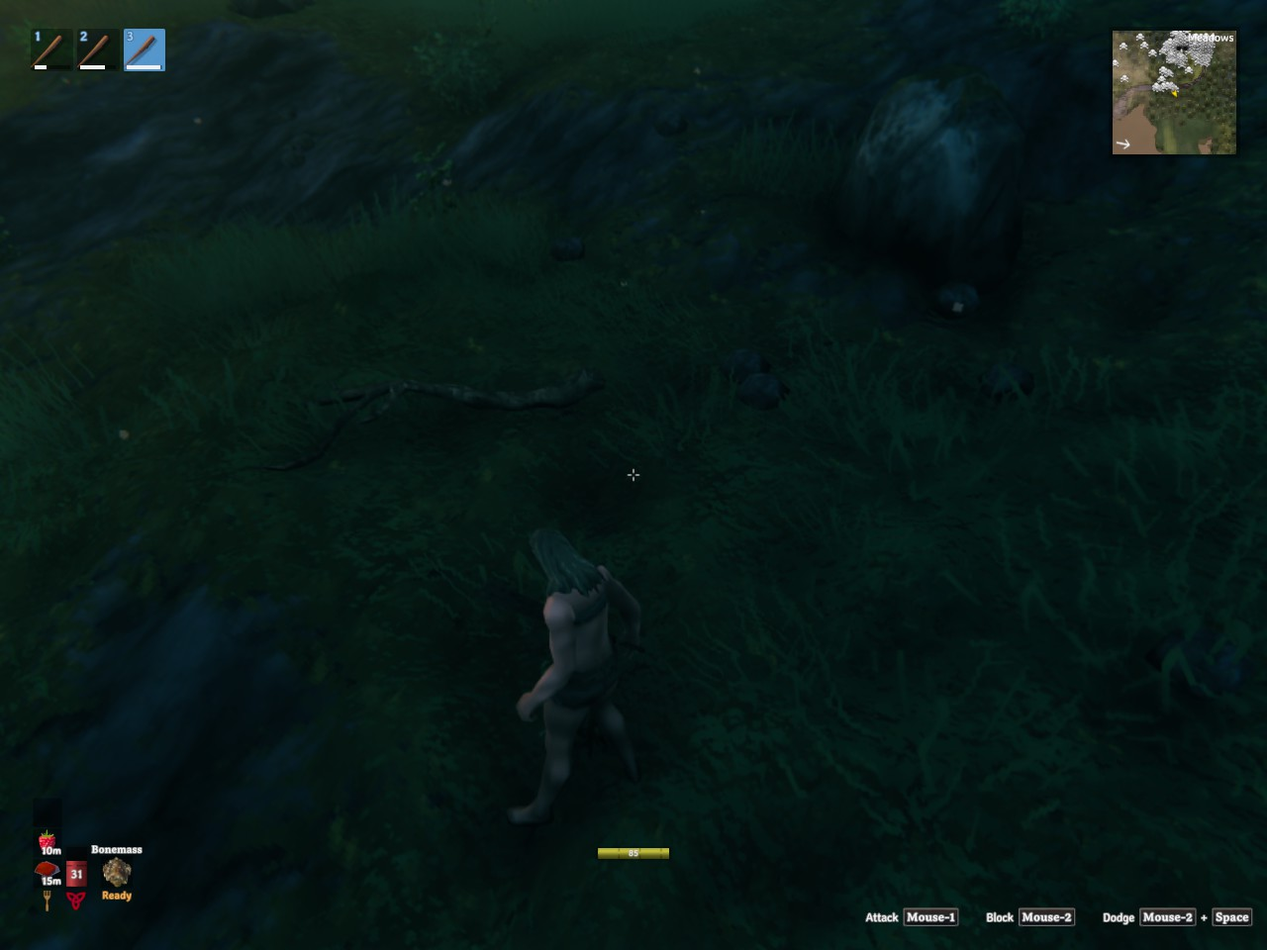Branch: (260, 369, 604, 470)
Food Indicator: (36, 797, 63, 891)
Health Bar: (63, 820, 90, 891)
Hotbar: (24, 21, 195, 80)
Stamina Bar: (593, 842, 674, 865)
Stone: (739, 373, 788, 409), (550, 236, 584, 260), (283, 149, 303, 167), (298, 136, 314, 149)
